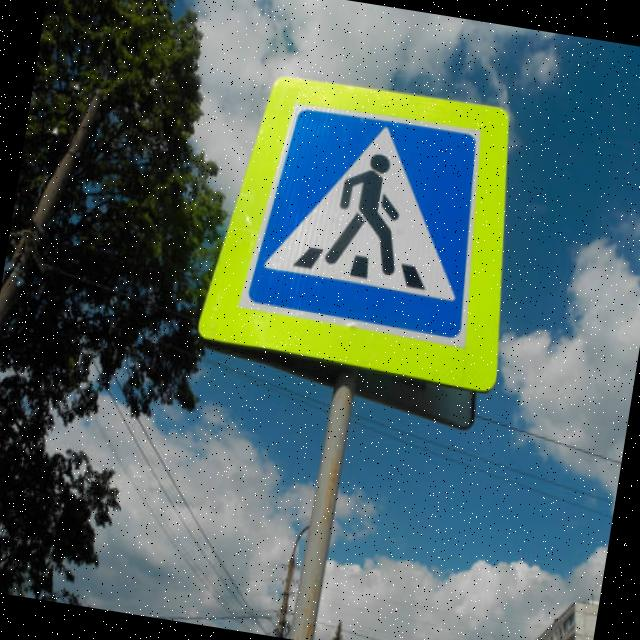crosswalk: (235, 81, 496, 352)
